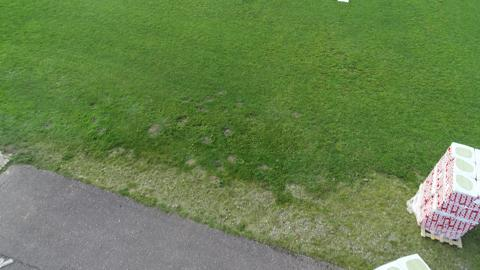RockwoolPallet: (410, 141, 479, 250)
